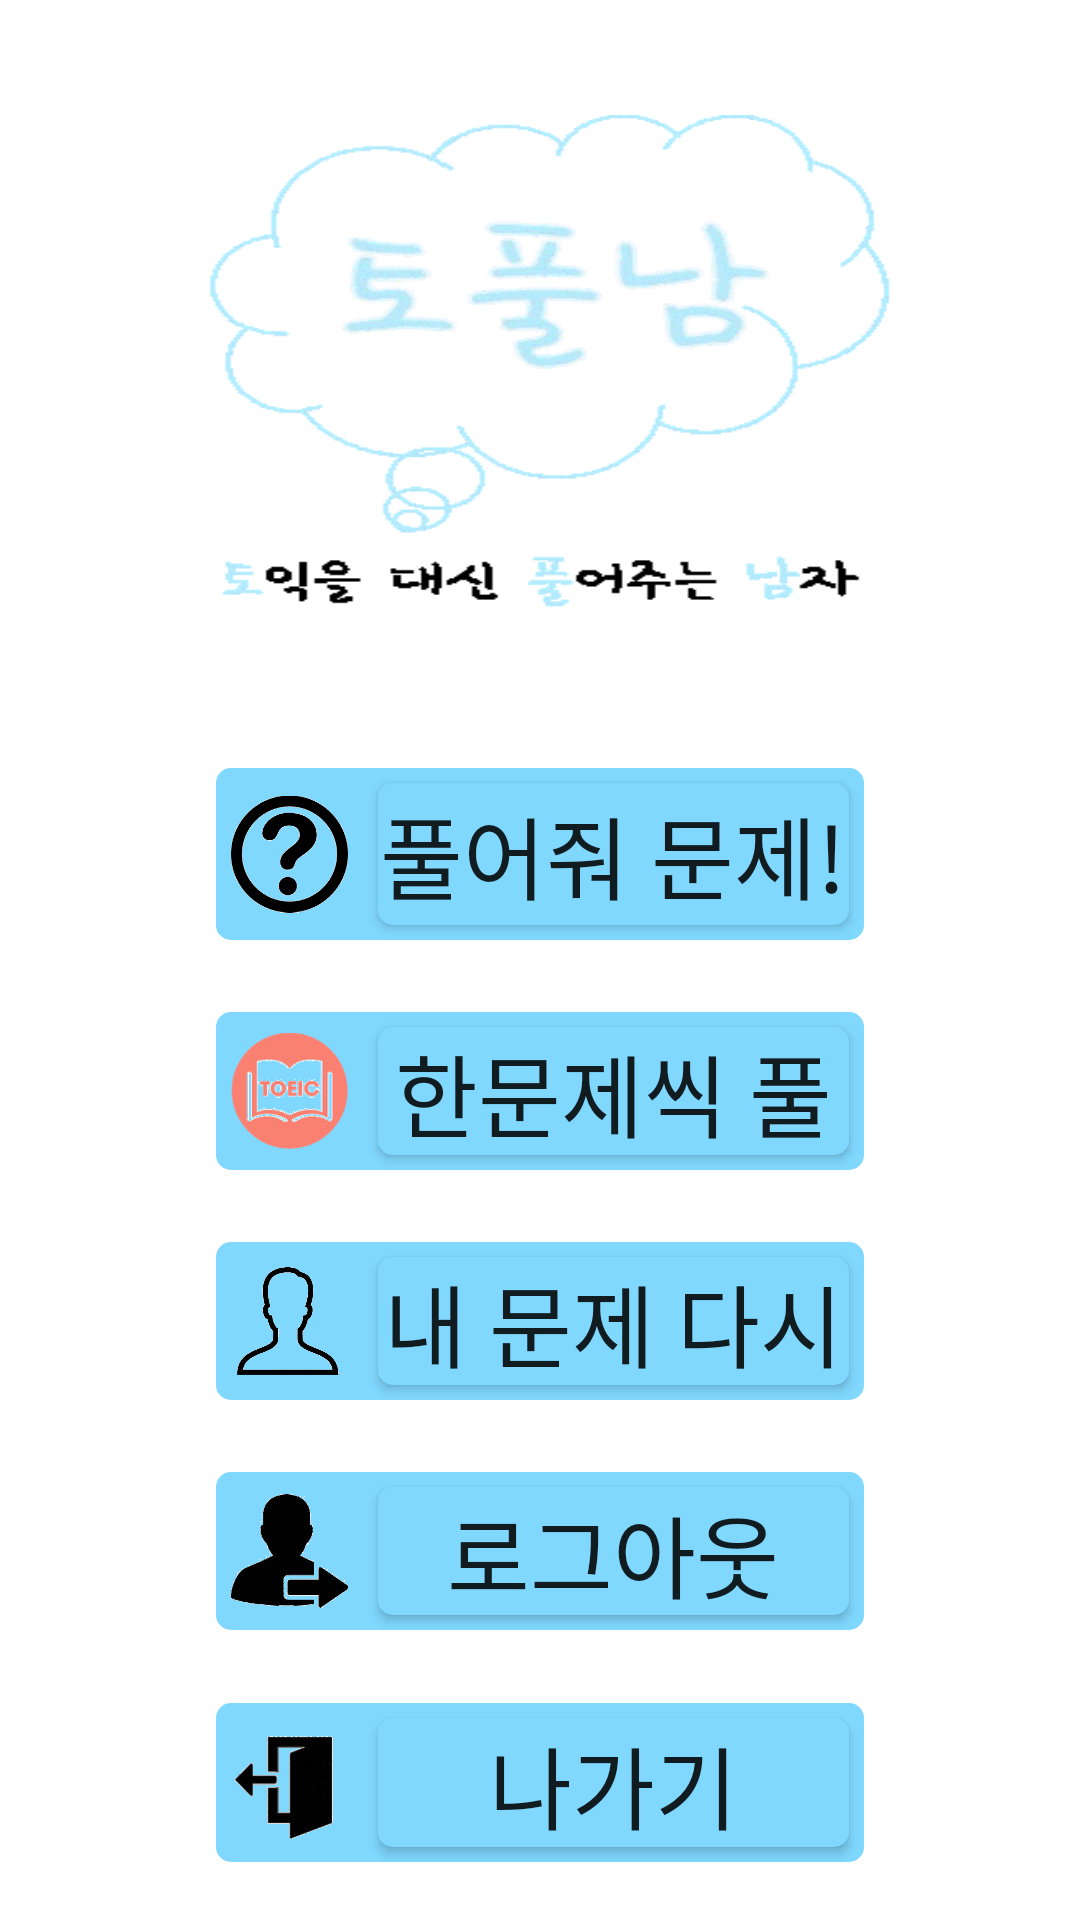

Named icons in this screenshot (1080px x 1920px) and their bounding boxes, bbox=[x1, y1, x2, y2]:
exit: bbox=[235, 1736, 333, 1839]
user: bbox=[237, 1267, 339, 1375]
